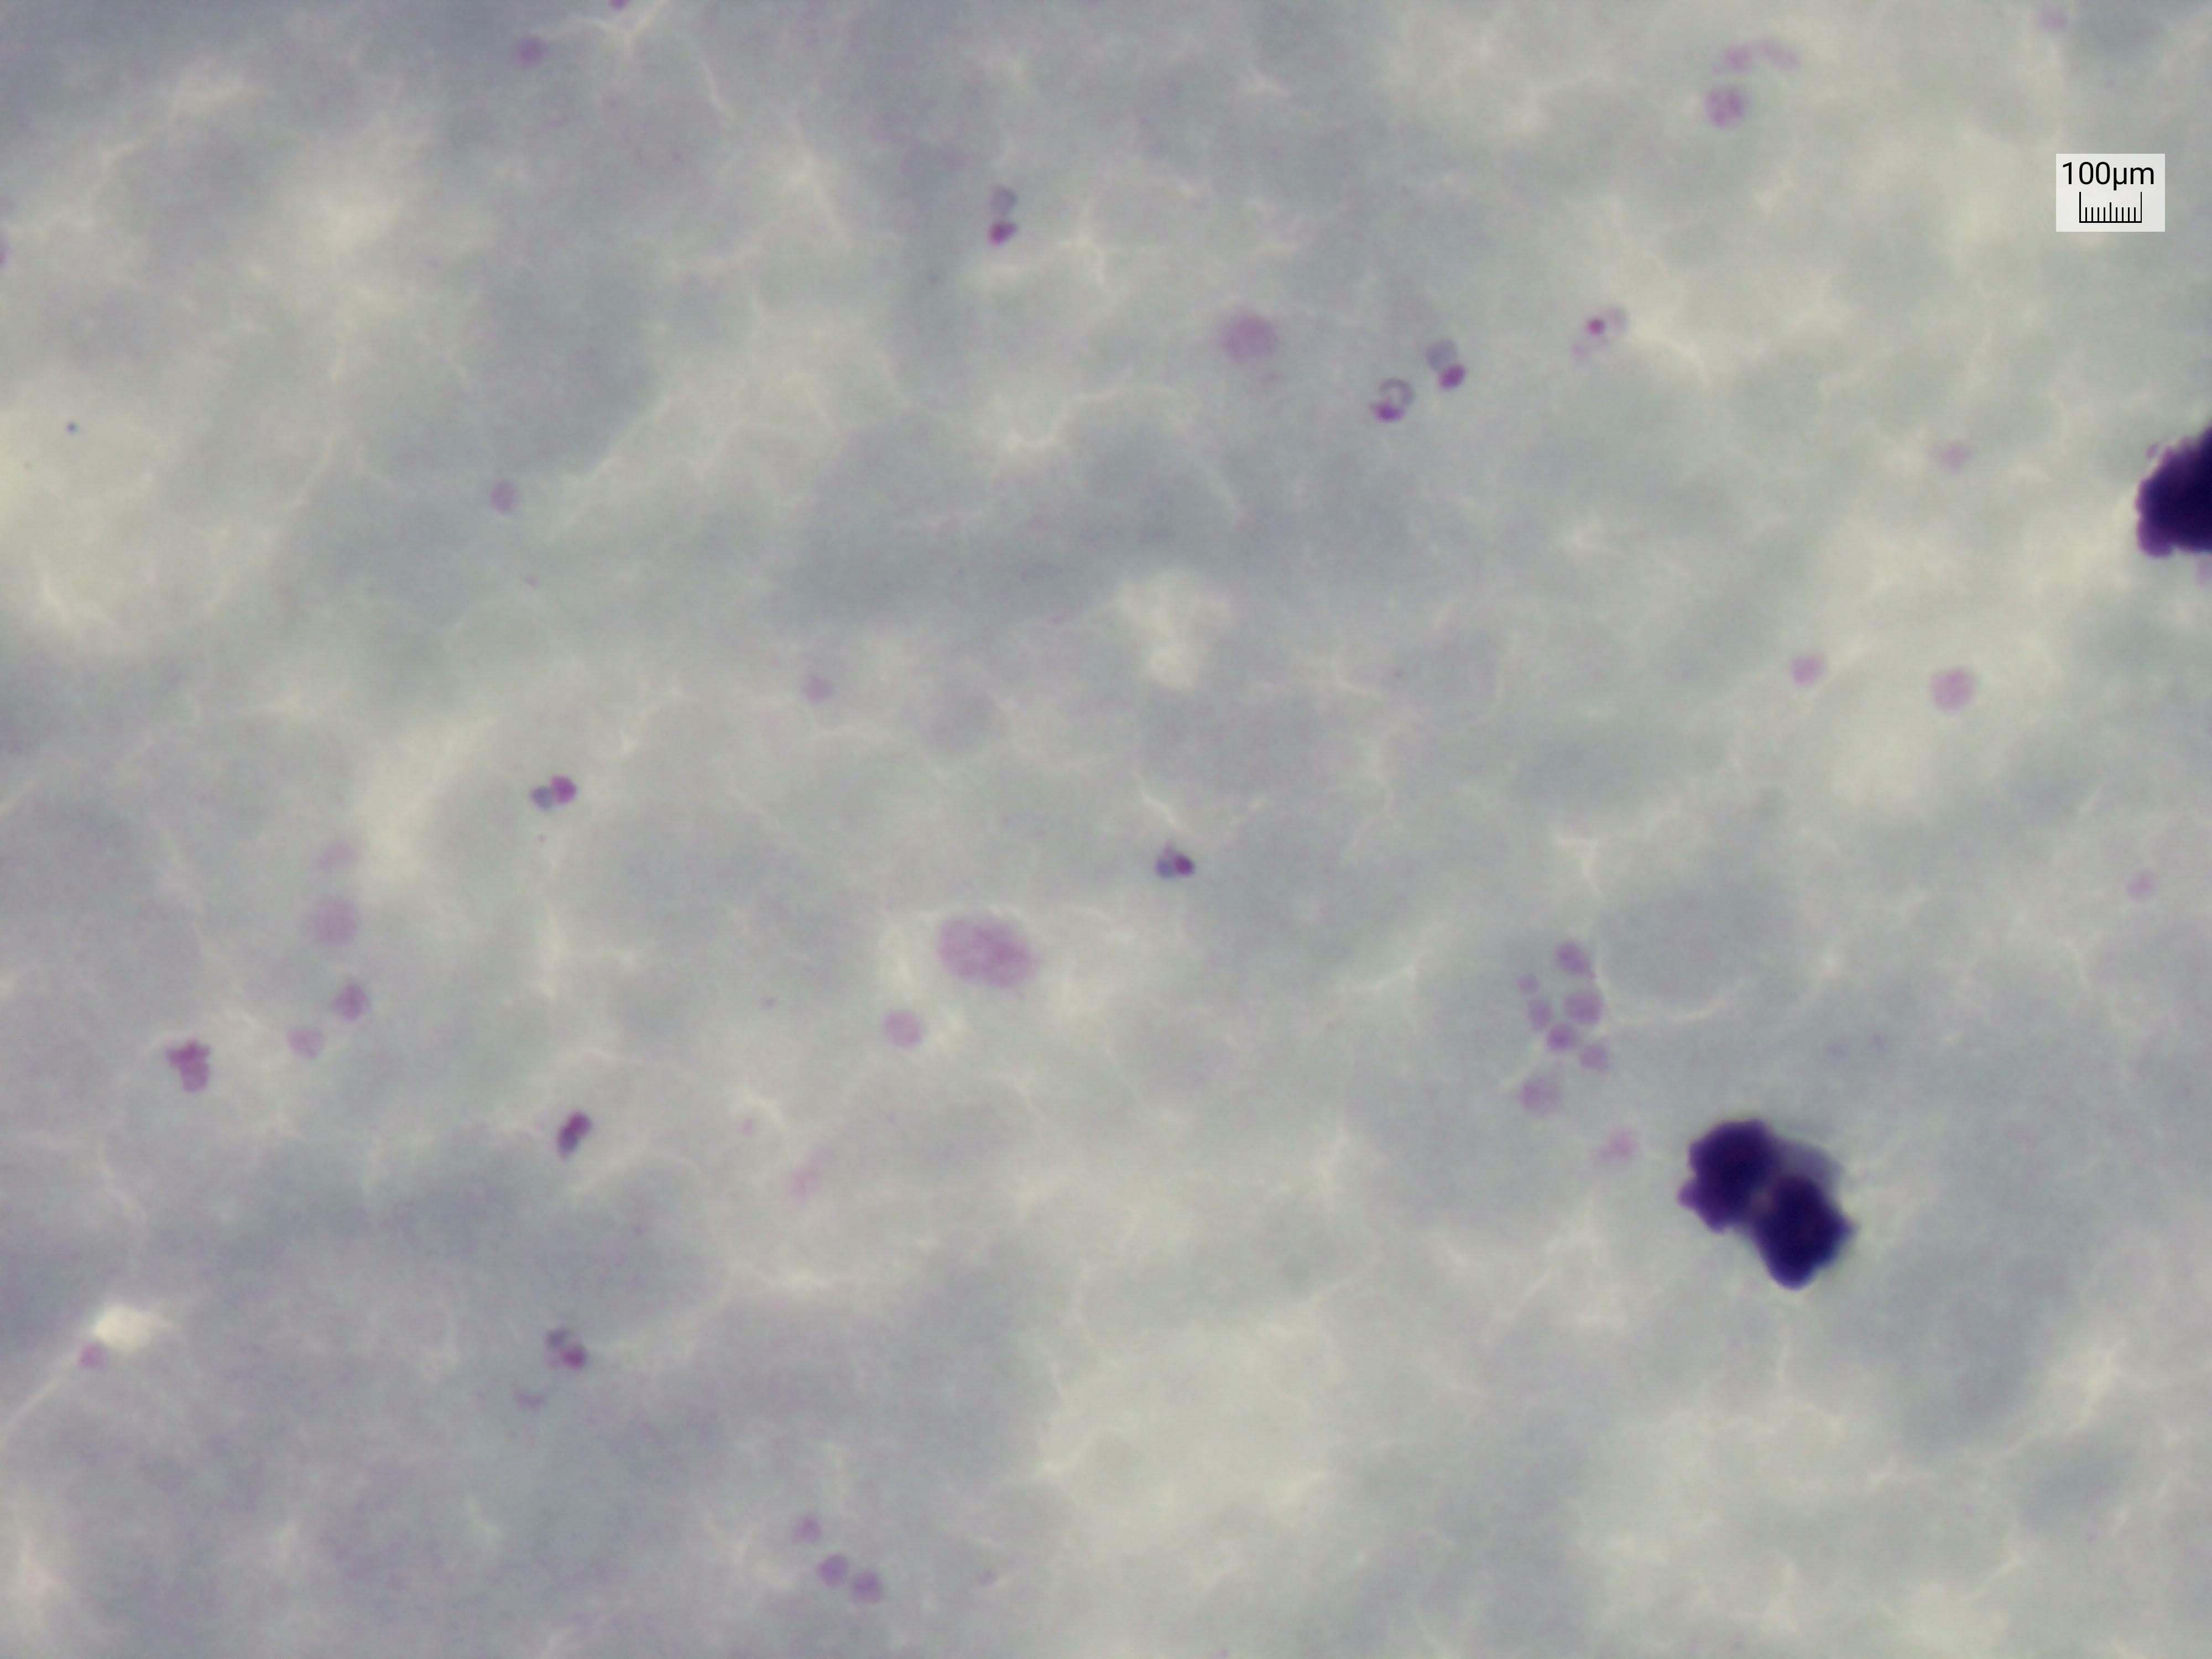p.falciparum: (979, 178, 1073, 275), (507, 748, 592, 833), (542, 1089, 615, 1185), (1571, 295, 1639, 394), (542, 1328, 615, 1413), (1366, 354, 1426, 455), (1153, 835, 1202, 910)
